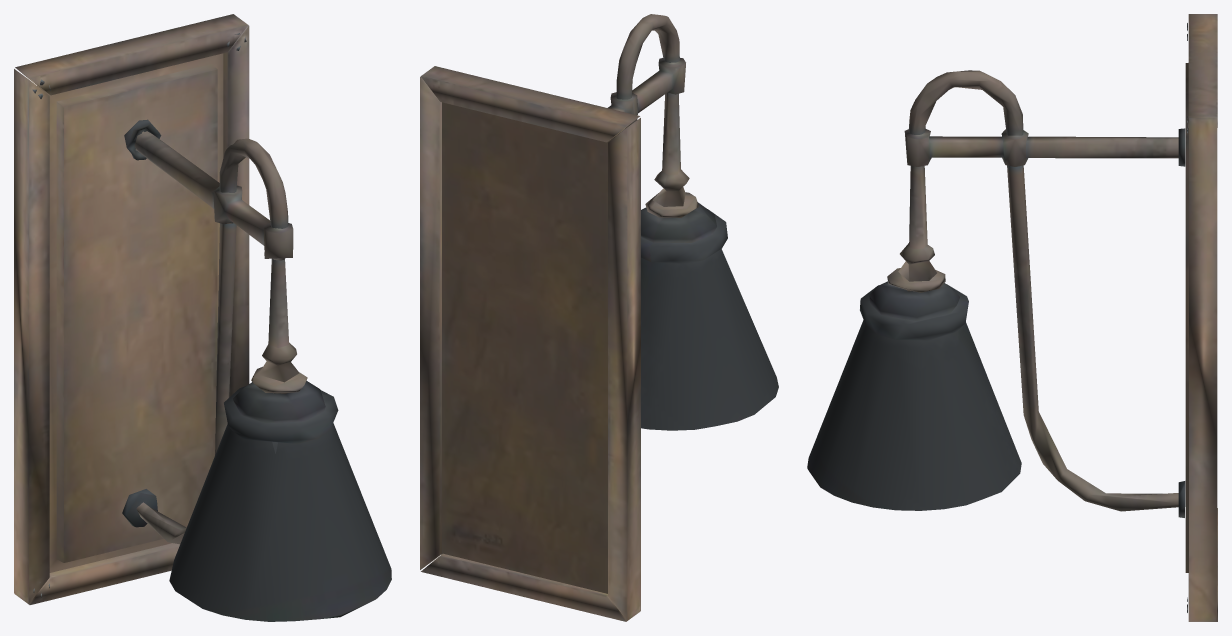
The model's file is sconce.glb.
The picture shows the model from 3 angles, left to right: view 1: azimuth 30°, elevation 25°; view 2: azimuth 150°, elevation 25°; view 3: azimuth 270°, elevation 25°; orthographic projection. The views are drawn at different scales.
Parts seen in each view (by area): view 1: industrial_wall_sconce; view 2: industrial_wall_sconce; view 3: industrial_wall_sconce.
Boxes of the visible parts, x1,y1,x2,y2 form: industrial_wall_sconce: [14, 14, 391, 621]; industrial_wall_sconce: [420, 14, 778, 621]; industrial_wall_sconce: [807, 14, 1217, 621].
Size of the model in its own units: 0.1494 by 0.3413 by 0.2513.
2 materials, 2 textured.
